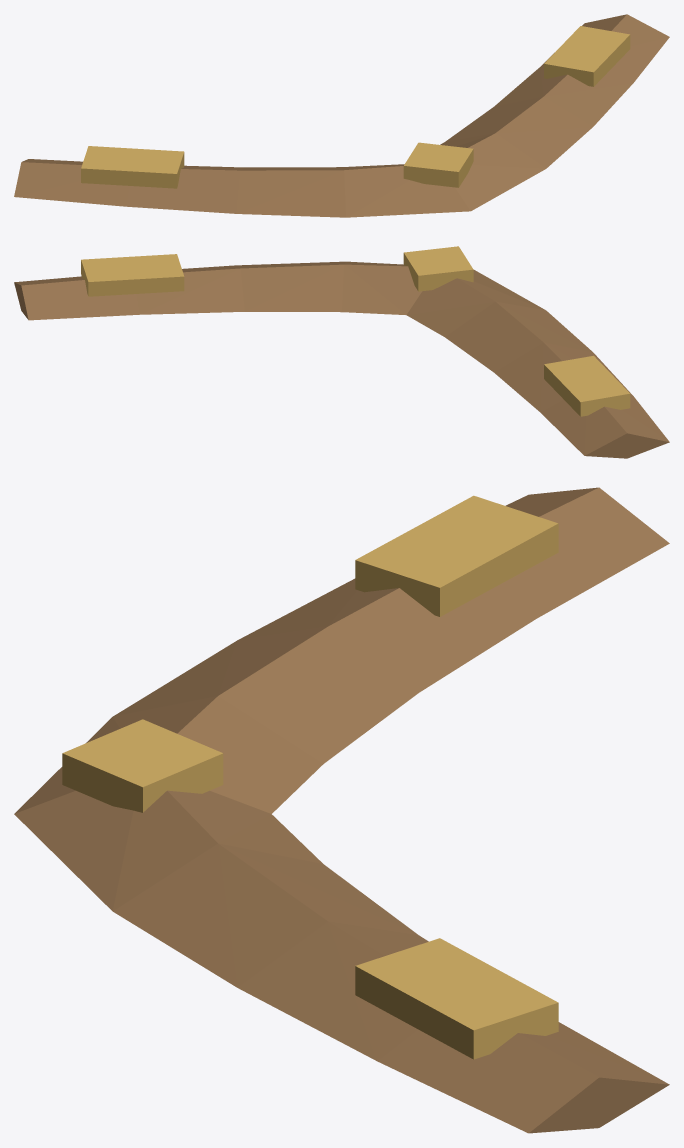
The model's file is Shot_Boomerang.fbx.
3 views of the same model, one above another, from view 1: azimuth 30°, elevation 25°; view 2: azimuth 150°, elevation 25°; view 3: azimuth 270°, elevation 25° (orthographic). The views are drawn at different scales.
Parts seen in each view (by area): view 1: Body, Inlay; view 2: Body, Inlay; view 3: Body, Inlay.
Part boxes in pixels (x1,y1,x2,y2): Body: (14, 14, 669, 217); Inlay: (81, 26, 630, 188); Body: (14, 261, 669, 458); Inlay: (81, 246, 630, 416); Body: (14, 487, 669, 1133); Inlay: (62, 495, 558, 1059).
Size of the model in its own units: 2.81 by 0.185 by 1.22.
